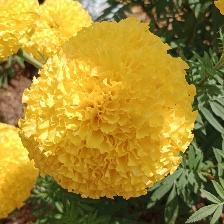marigold: (20, 16, 200, 201)
